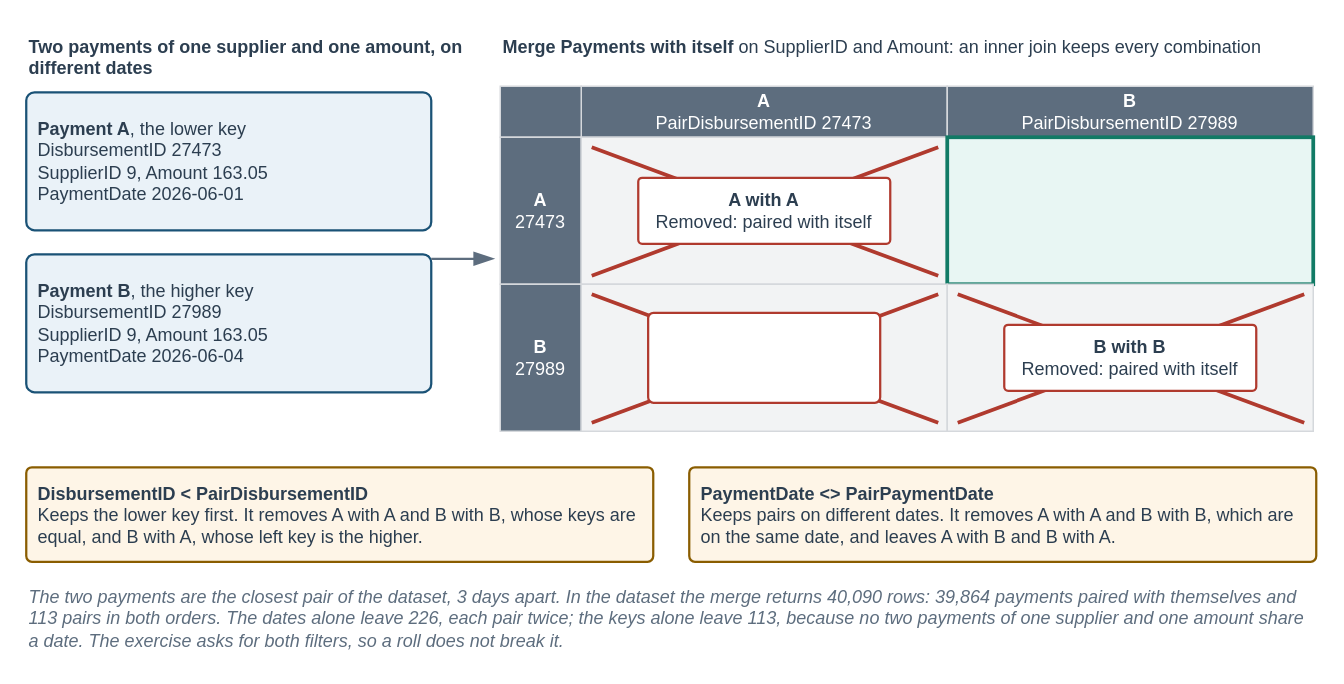
This 1344x684 diagram has some shape labels left out. Here are the shapes that lost their labels. From the top down, the centre of each, then its label:
point (1129, 210): A with B Kept: the lower key first, on different dates
point (763, 357): B with A Removed: the same pair in the other order
